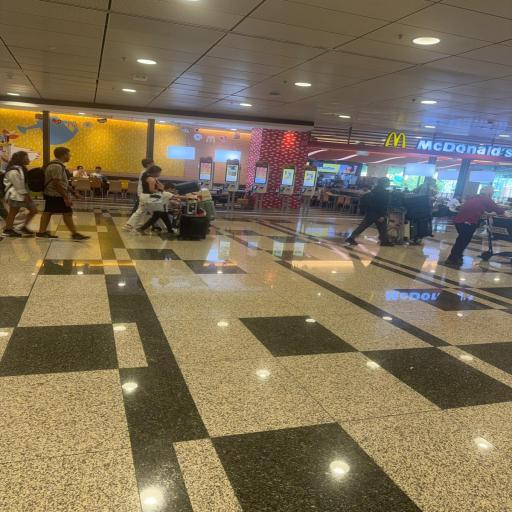person_right: (34, 146, 91, 242), (2, 152, 39, 238)
person_with_luggage_right: (328, 170, 442, 246), (444, 185, 512, 267), (156, 166, 218, 238), (121, 158, 156, 233)
